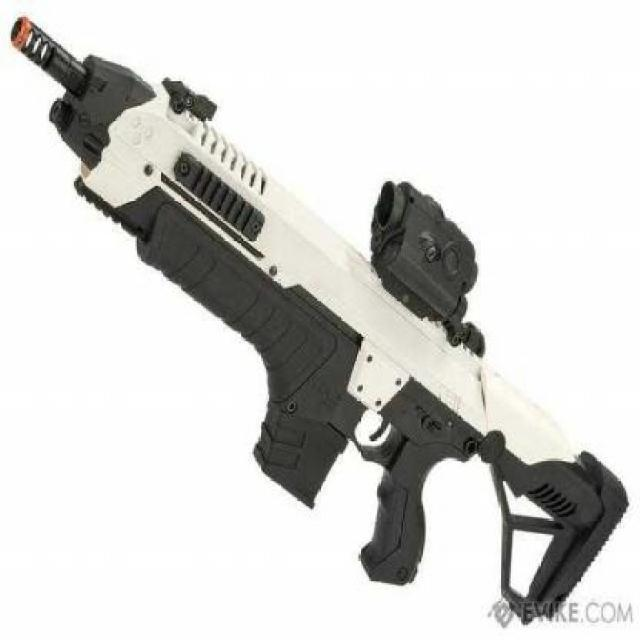weapon: (9, 16, 630, 624)
